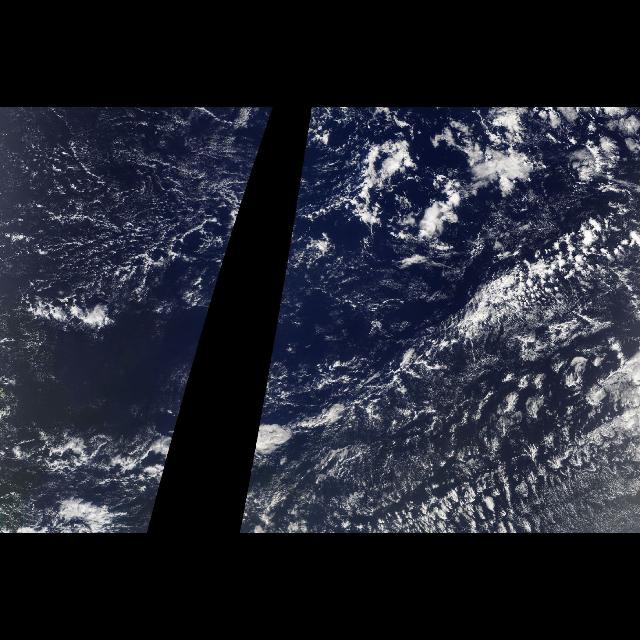Fish: (270, 108, 640, 532)
Gravel: (242, 392, 640, 534), (32, 124, 204, 298)
Sugar: (1, 107, 252, 300)
